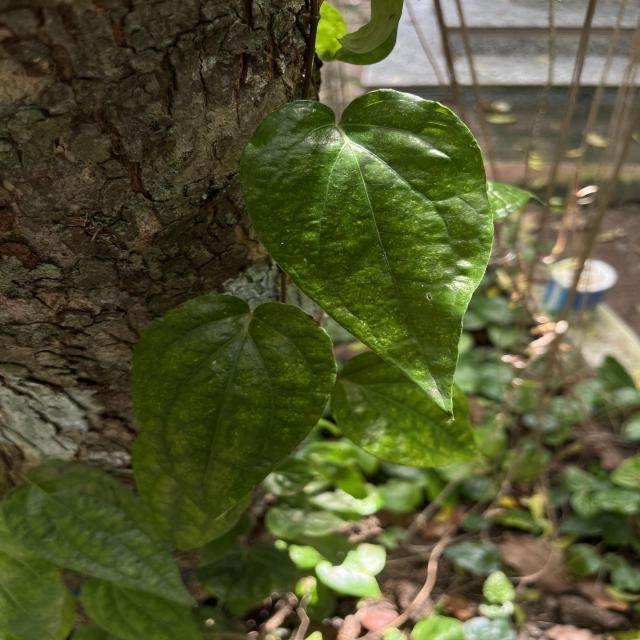Piper betle: (237, 86, 497, 422)
